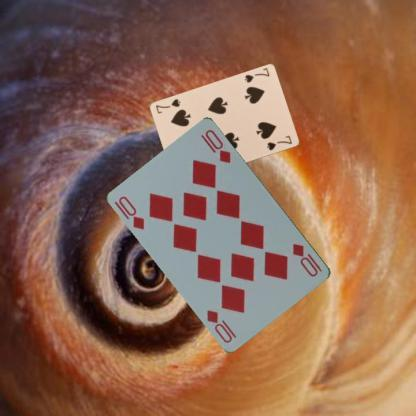10d: (290, 240, 324, 278), (112, 193, 146, 231)
7s: (242, 66, 271, 84)
